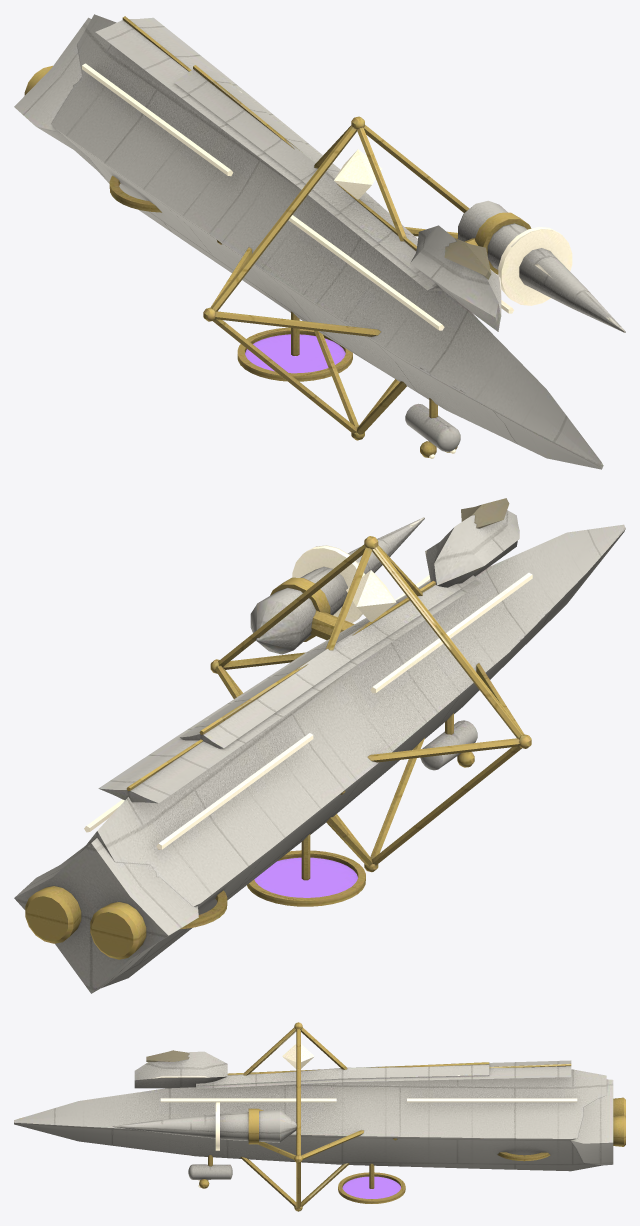
File: seraphine_picket.glb
The picture shows the model from 3 angles, top to bottom: view 1: azimuth 30°, elevation 25°; view 2: azimuth 150°, elevation 25°; view 3: azimuth 270°, elevation 25°; orthographic projection. The views are drawn at different scales.
Visible parts, largest first — view 1: HULL, SYS_SENSORS, SYS_WPN1, SYS_BRIDGE, SYS_DAMP, SYS_DRIVE, SYS_PD, SYS_BUS_F, SYS_BUS_A, SYS_JUMP; view 2: HULL, SYS_DRIVE, SYS_SENSORS, SYS_WPN1, SYS_DAMP, SYS_BRIDGE, SYS_BUS_A, SYS_PD, SYS_BUS_F; view 3: HULL, SYS_WPN1, SYS_SENSORS, SYS_DRIVE, SYS_BRIDGE, SYS_DAMP, SYS_BUS_F, SYS_BUS_A, SYS_PD, SYS_JUMP.
Boxes of the visible parts, bbox=[...] form: HULL: bbox=[51, 14, 603, 469]; SYS_SENSORS: bbox=[203, 116, 469, 440]; SYS_WPN1: bbox=[458, 200, 625, 332]; SYS_BRIDGE: bbox=[410, 225, 501, 331]; SYS_DAMP: bbox=[237, 311, 352, 381]; SYS_DRIVE: bbox=[14, 17, 103, 175]; SYS_PD: bbox=[405, 398, 460, 458]; SYS_BUS_F: bbox=[288, 215, 513, 330]; SYS_BUS_A: bbox=[82, 63, 233, 176]; SYS_JUMP: bbox=[109, 175, 161, 212]; HULL: bbox=[62, 524, 625, 988]; SYS_DRIVE: bbox=[14, 838, 198, 993]; SYS_SENSORS: bbox=[210, 536, 531, 872]; SYS_WPN1: bbox=[250, 517, 424, 654]; SYS_DAMP: bbox=[247, 834, 365, 906]; SYS_BRIDGE: bbox=[425, 498, 519, 587]; SYS_BUS_A: bbox=[84, 733, 313, 849]; SYS_PD: bbox=[420, 713, 477, 770]; SYS_BUS_F: bbox=[370, 572, 532, 693]; HULL: bbox=[14, 1060, 606, 1171]; SYS_WPN1: bbox=[112, 1102, 296, 1150]; SYS_SENSORS: bbox=[240, 1022, 363, 1211]; SYS_DRIVE: bbox=[570, 1079, 625, 1165]; SYS_BRIDGE: bbox=[134, 1050, 227, 1088]; SYS_DAMP: bbox=[338, 1163, 405, 1203]; SYS_BUS_F: bbox=[160, 1098, 336, 1102]; SYS_BUS_A: bbox=[407, 1098, 577, 1102]; SYS_PD: bbox=[188, 1155, 232, 1188]; SYS_JUMP: bbox=[497, 1152, 550, 1161].
Size of the model in its own units: 8.08 by 8.08 by 23.87.
Materials: 1 (1 with a texture image).
